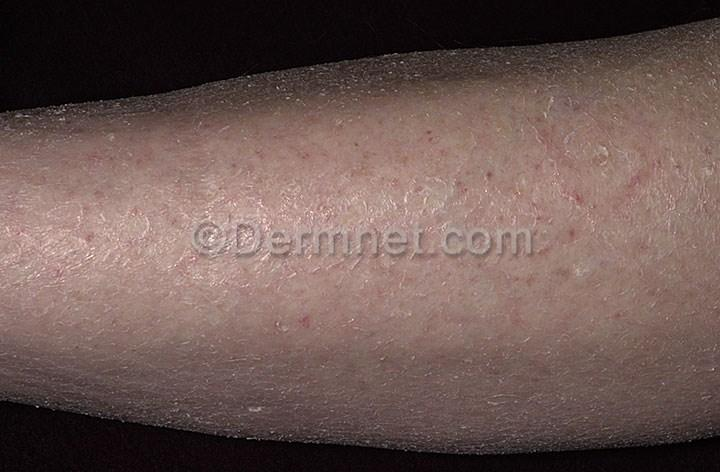xerosis 2: (0, 19, 719, 148), (0, 369, 719, 452)
